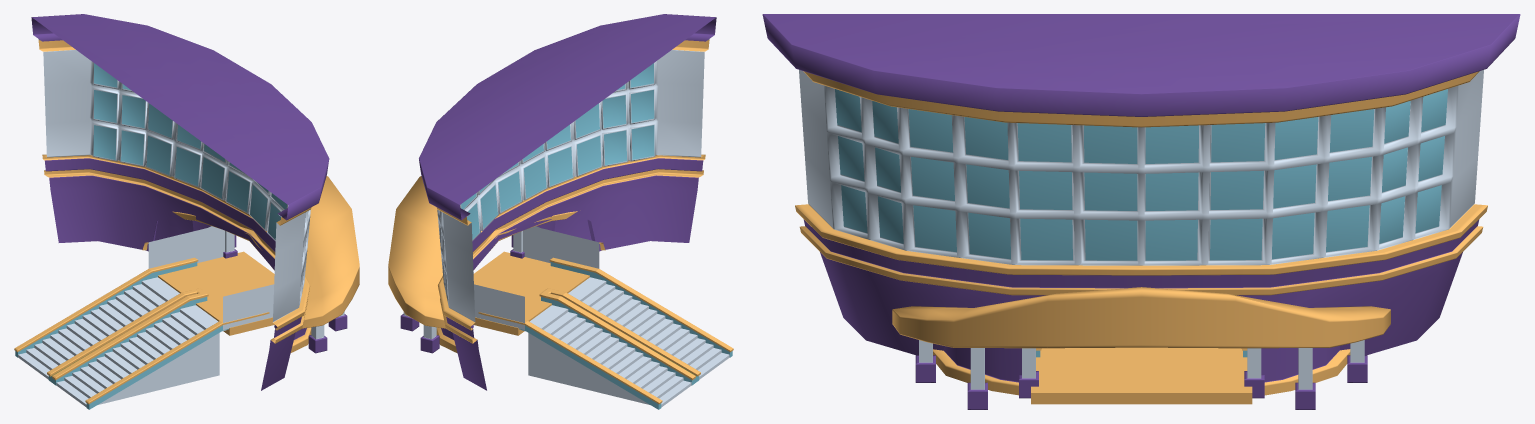
The model's file is entrance.fbx.
3 renders of one model, left to right at view 1: azimuth 30°, elevation 25°; view 2: azimuth 150°, elevation 25°; view 3: azimuth 270°, elevation 25°, orthographic. The views are drawn at different scales.
Visible parts, largest first — view 1: mall, stairs, roof, floor, wall inside, rim, rim middle, entrance wall, pillars.001; view 2: mall, stairs, roof, floor, wall inside, rim, rim middle, entrance wall, pillars.001; view 3: mall, roof, floor, entrance wall, pillars.002, pillars, pillars.001.
Part boxes in pixels (<box>): mall: <box>31,14,329,390</box>; stairs: <box>18,277,226,407</box>; roof: <box>172,176,359,328</box>; floor: <box>158,251,274,335</box>; wall inside: <box>148,226,274,329</box>; rim: <box>14,257,269,409</box>; rim middle: <box>47,288,208,385</box>; entrance wall: <box>142,220,311,352</box>; pillars.001: <box>308,325,327,353</box>; mall: <box>419,14,716,390</box>; stairs: <box>521,277,729,407</box>; roof: <box>388,176,577,328</box>; floor: <box>473,251,589,335</box>; wall inside: <box>474,226,599,329</box>; rim: <box>478,257,733,409</box>; rim middle: <box>539,288,700,385</box>; entrance wall: <box>436,220,605,353</box>; pillars.001: <box>420,325,439,353</box>; mall: <box>762,14,1520,355</box>; roof: <box>892,287,1390,348</box>; floor: <box>1031,347,1252,404</box>; entrance wall: <box>933,346,1350,395</box>; pillars.002: <box>967,348,1315,409</box>; pillars: <box>1019,348,1264,398</box>; pillars.001: <box>915,340,1367,382</box>.
Size of the model in its own units: 3596 by 3048 by 5777.
